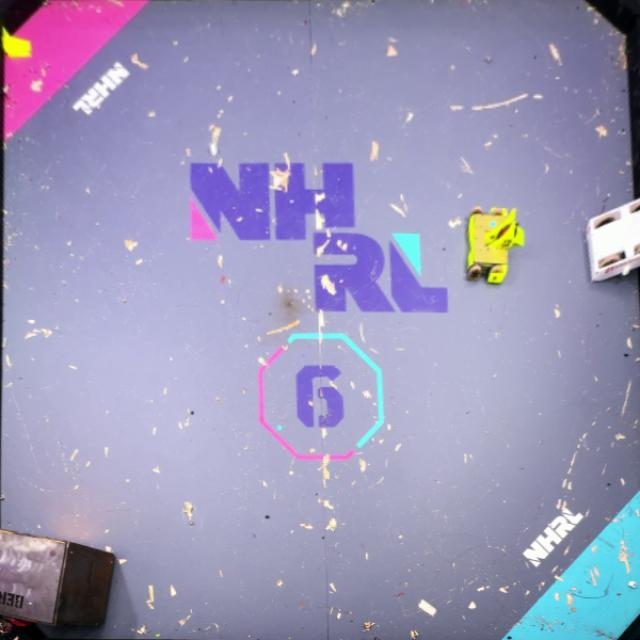housebot: (0, 526, 116, 632)
robot: (466, 206, 527, 284), (585, 196, 640, 282)
